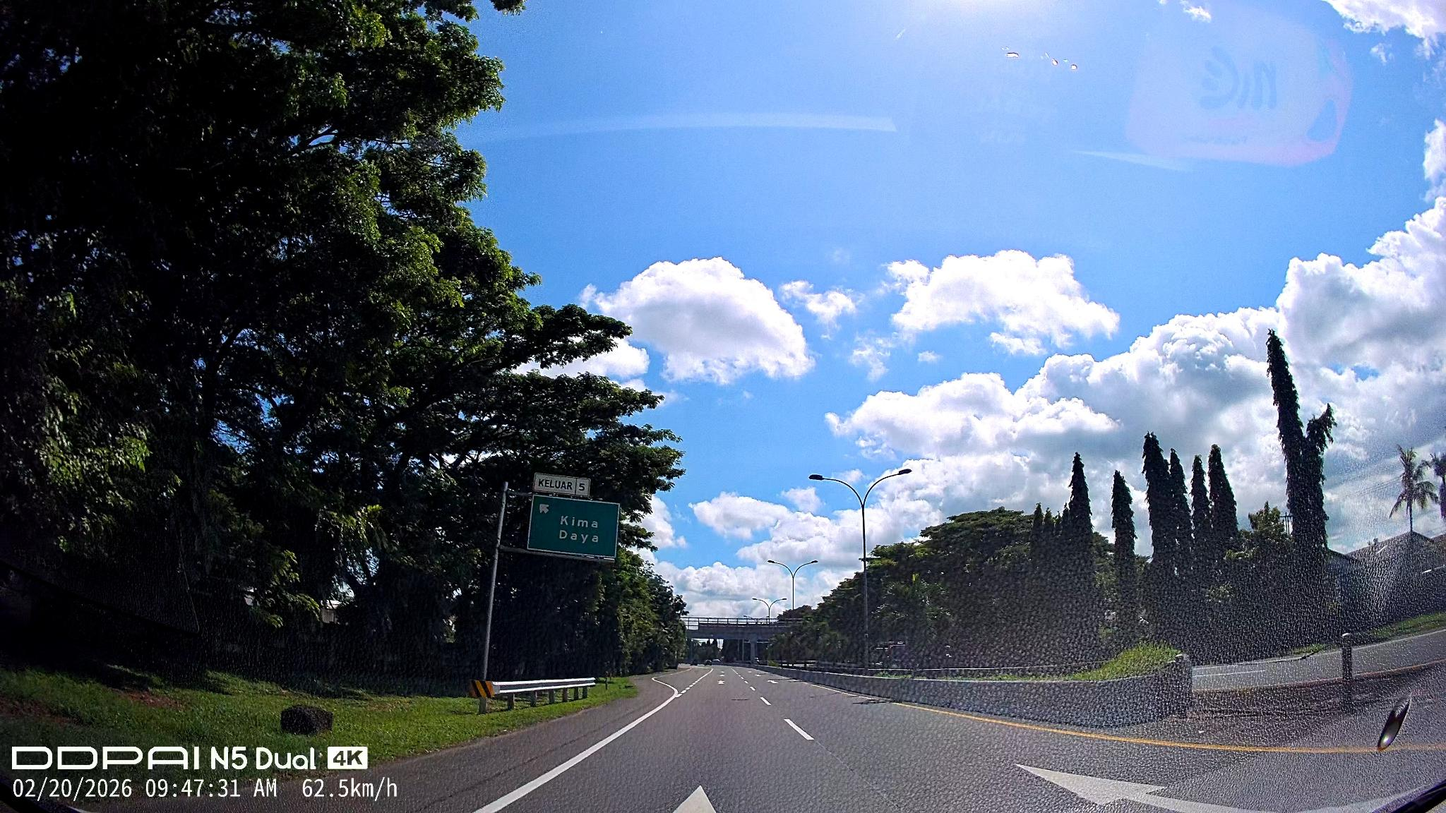rambu_teks: (527, 494, 621, 559)
